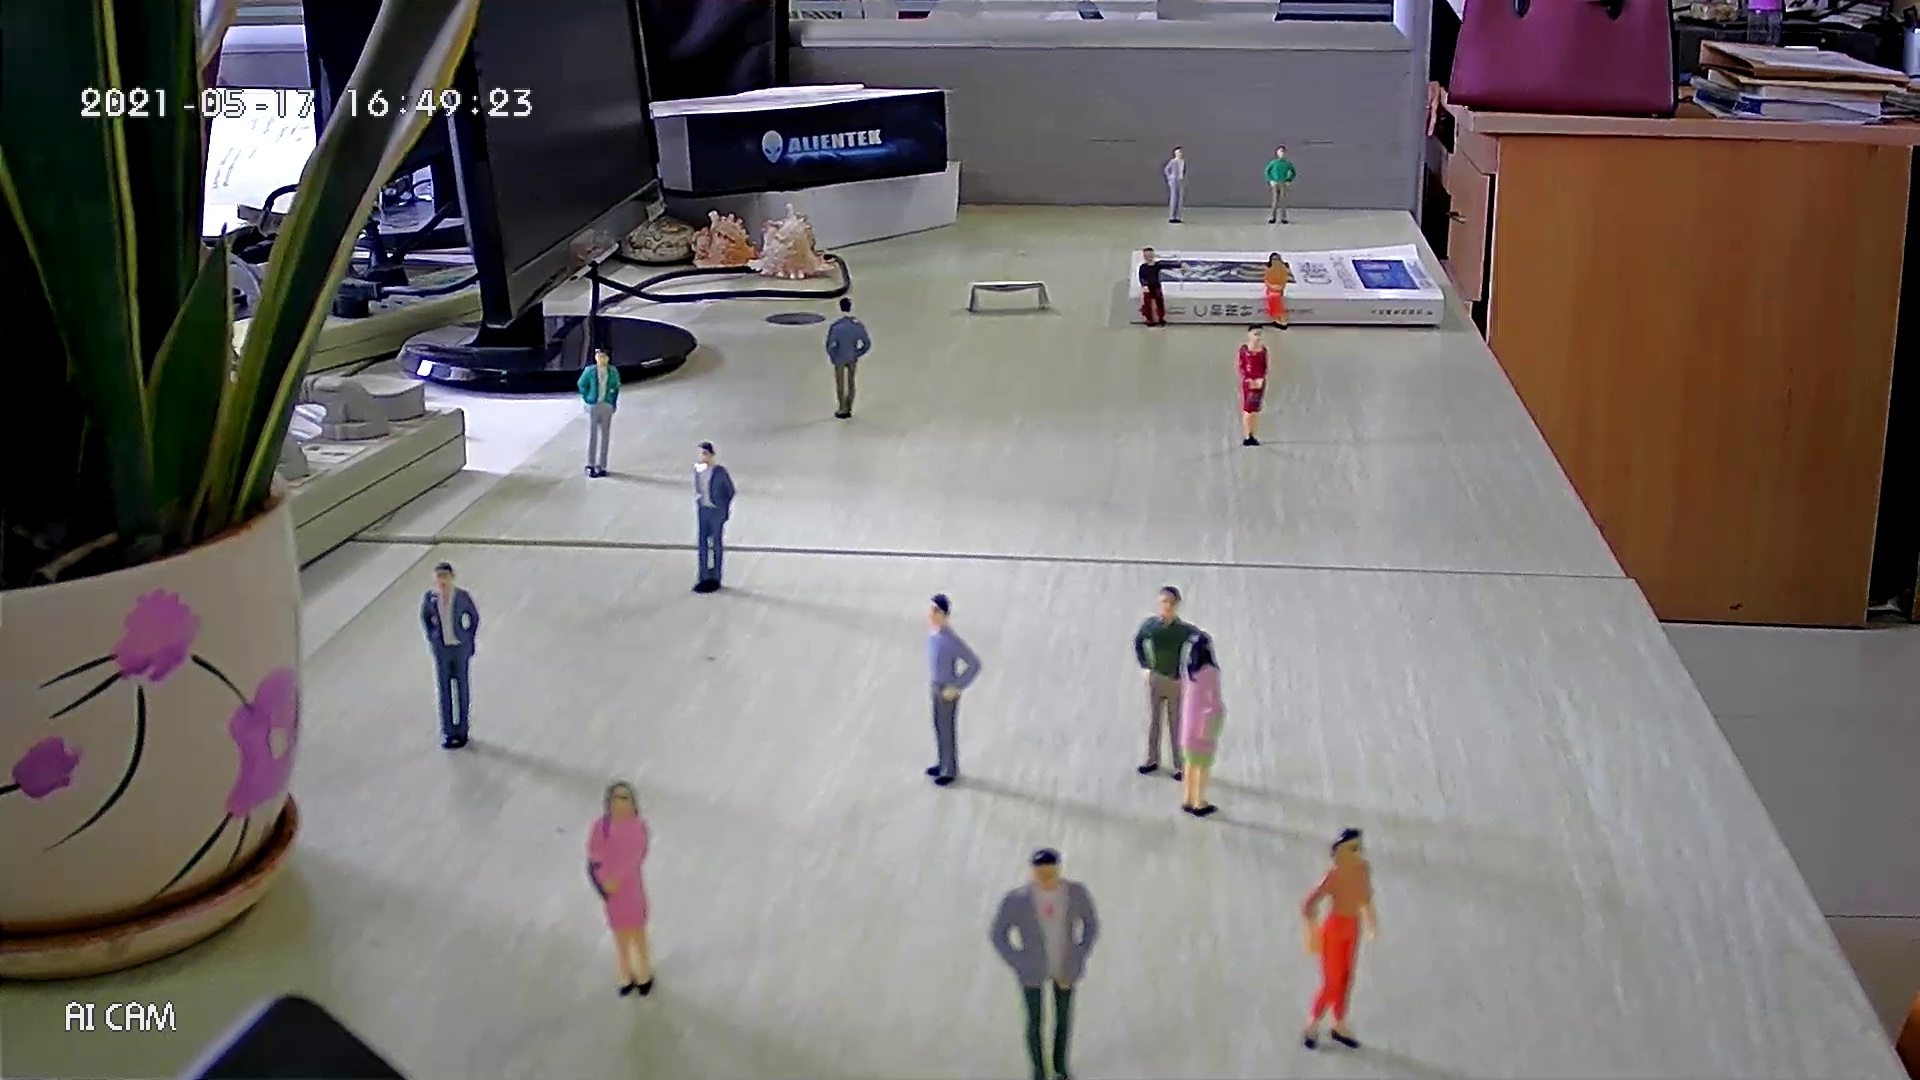person: (985, 844, 1102, 1080), (1293, 822, 1389, 1054), (581, 776, 661, 1000), (1131, 584, 1201, 786), (919, 588, 985, 790), (419, 558, 483, 752), (1173, 628, 1229, 820), (687, 438, 739, 598), (575, 338, 625, 482), (821, 292, 875, 422), (1233, 318, 1271, 448), (1133, 242, 1187, 332), (1259, 140, 1299, 228), (1157, 140, 1193, 228), (1259, 250, 1295, 334)
